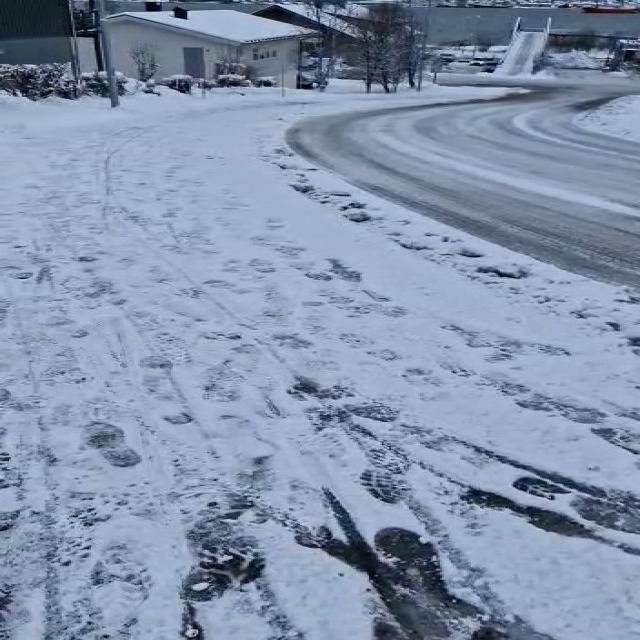path: (287, 72, 640, 286)
